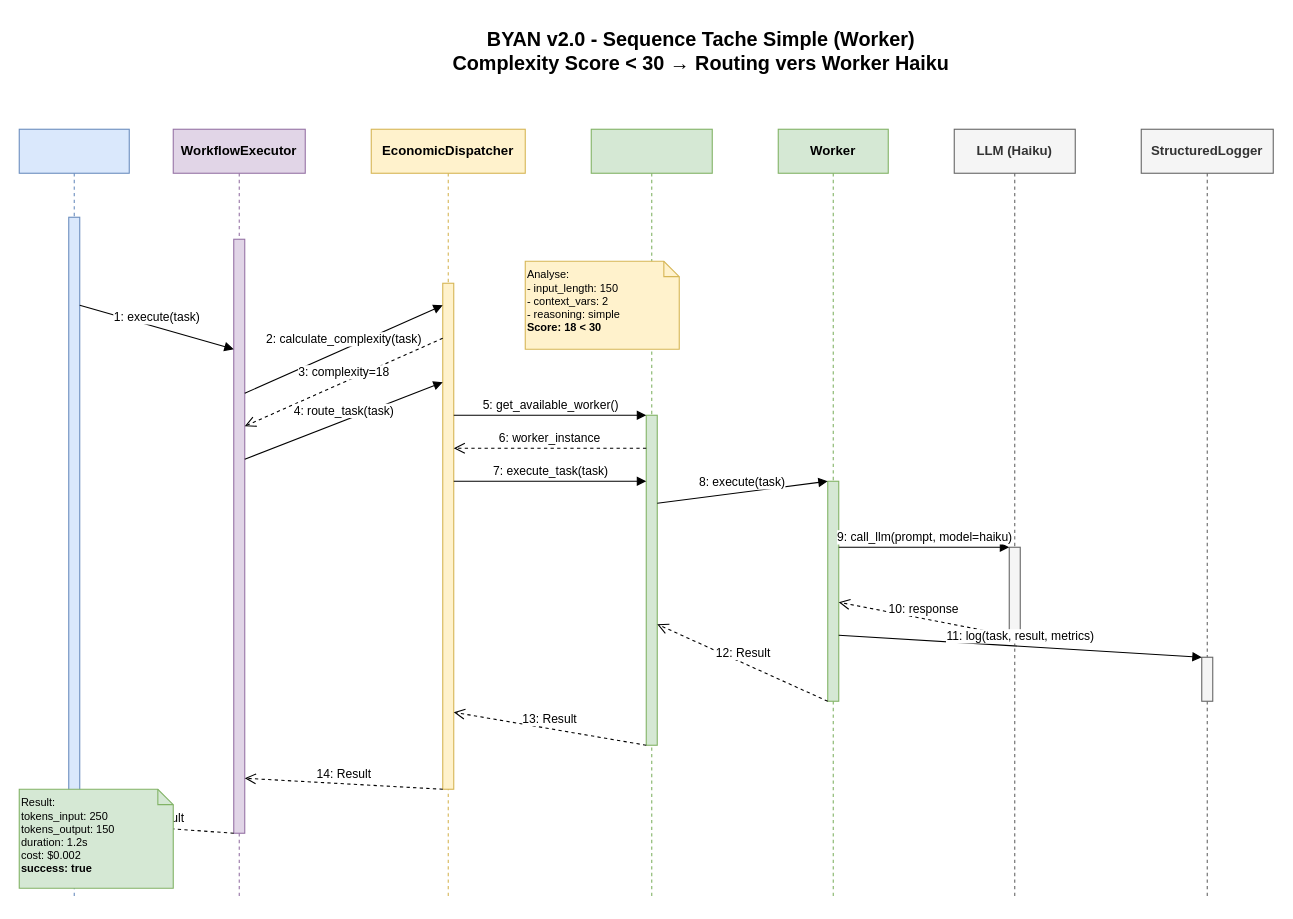
Image size: 1293x919. Some labels were removed from this diagram. Here are the shapes that lost their labels. From the top down, the box of each, then its label:
(18, 128, 129, 899): User
(590, 128, 712, 899): WorkerPool
